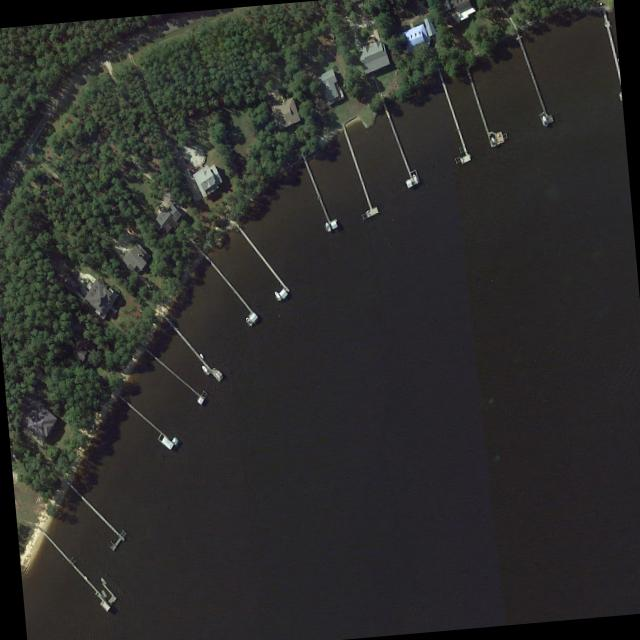ship: (200, 363, 210, 375), (540, 113, 548, 127), (273, 289, 282, 300), (324, 219, 331, 232), (244, 314, 252, 325), (411, 172, 418, 184), (490, 135, 496, 147), (100, 588, 107, 597), (198, 351, 203, 358)
